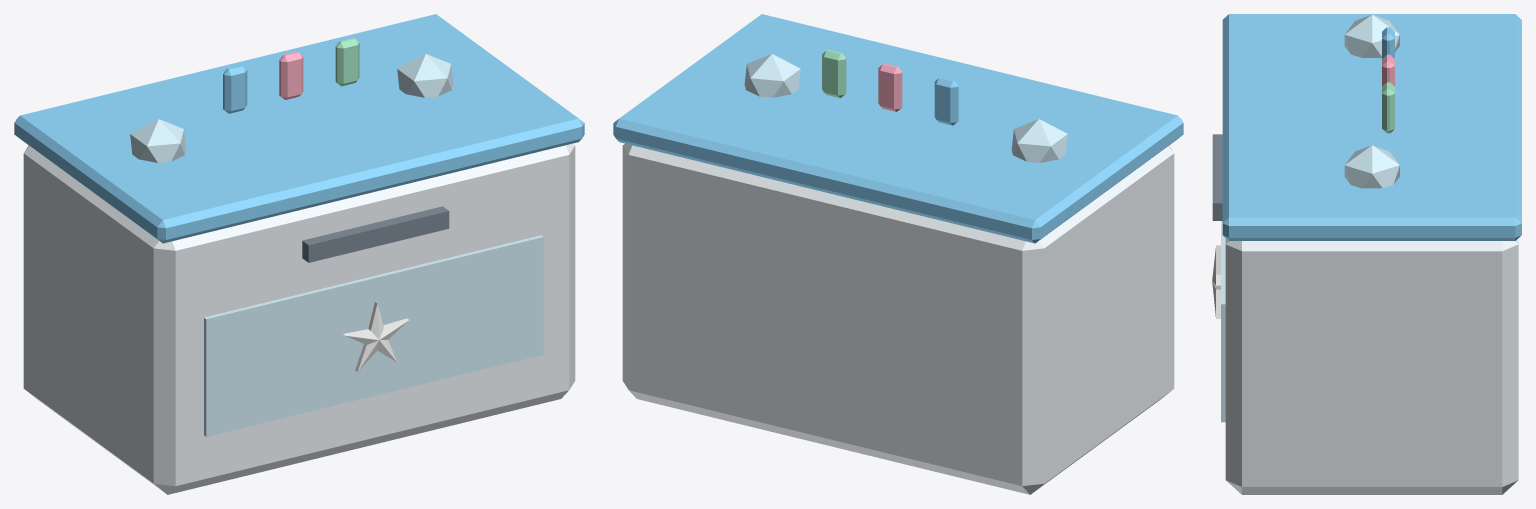
Rendered from station_freezer.glb.
The picture shows the model from 3 angles, left to right: view 1: azimuth 30°, elevation 25°; view 2: azimuth 150°, elevation 25°; view 3: azimuth 270°, elevation 25°; orthographic projection.
Visible parts, largest first — view 1: station_freezer; view 2: station_freezer; view 3: station_freezer.
Part boxes in pixels (left/top/right/bottom): station_freezer: left=14, top=14, right=584, bottom=494; station_freezer: left=613, top=14, right=1183, bottom=494; station_freezer: left=1212, top=14, right=1521, bottom=494.
Size of the model in its own units: 1.52 by 1.15 by 0.952.
